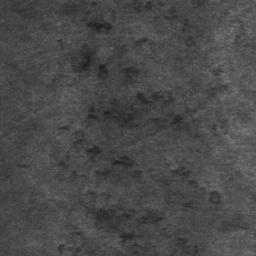Rolled in scale: (38, 0, 256, 256), (4, 115, 36, 138), (9, 64, 30, 95), (6, 164, 29, 179)
